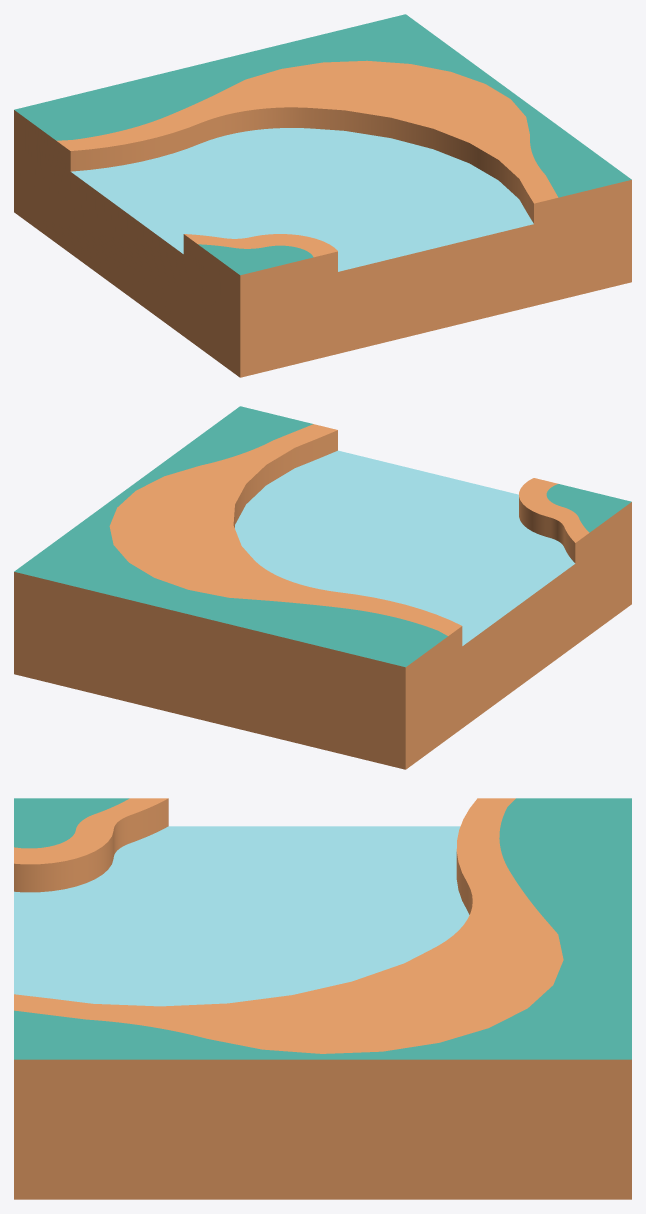
The model's file is ground_dirtRiverCornerBank.obj.
3 renders of one model, top to bottom at view 1: azimuth 30°, elevation 25°; view 2: azimuth 150°, elevation 25°; view 3: azimuth 270°, elevation 25°, orthographic. The views are drawn at different scales.
Parts seen in each view (by area): view 1: ground_dirtRiverCornerBank; view 2: ground_dirtRiverCornerBank; view 3: ground_dirtRiverCornerBank.
Part boxes in pixels (x1,y1,x2,y2): ground_dirtRiverCornerBank: (14, 14, 631, 377); ground_dirtRiverCornerBank: (14, 406, 631, 769); ground_dirtRiverCornerBank: (14, 798, 631, 1199).
Size of the model in its own units: 10 by 2.5 by 10.
